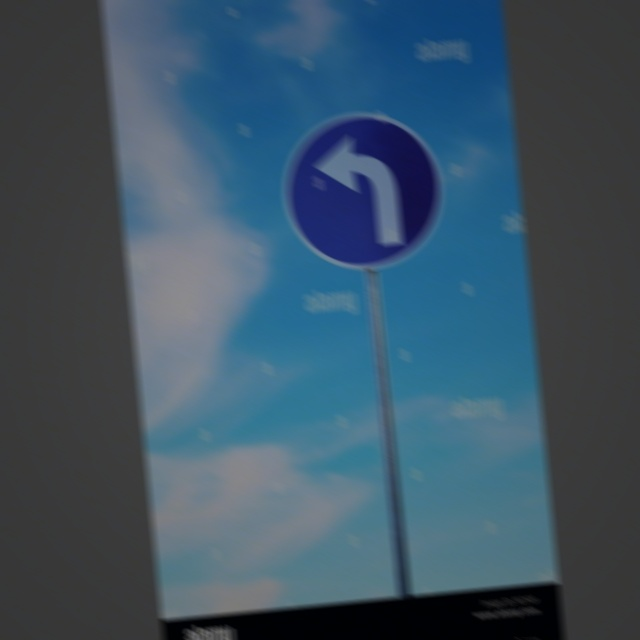Compulsory_Turn_Left_Ahead: (283, 104, 446, 280)
